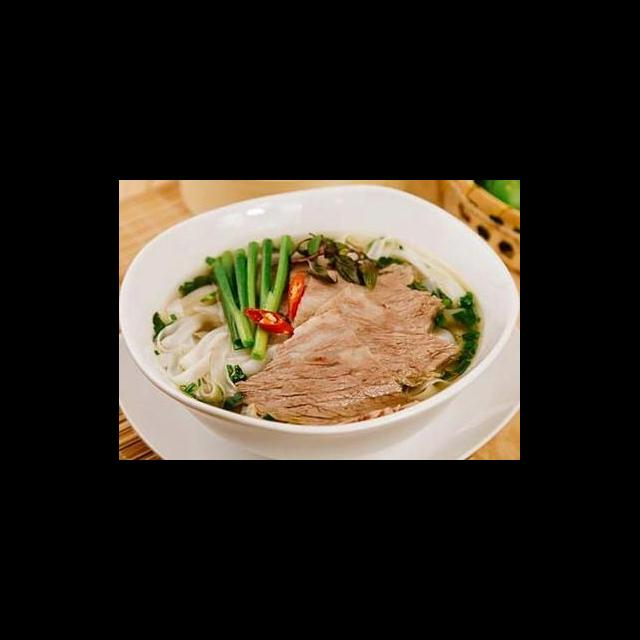banh pho: (152, 280, 242, 408), (362, 228, 472, 303)
pho bo: (120, 205, 520, 457)
thit bo: (294, 278, 456, 425), (232, 307, 424, 424), (286, 258, 449, 352)
